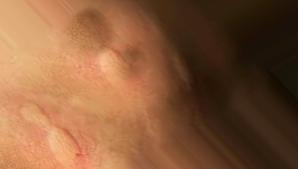Spider: (12, 96, 91, 169), (91, 41, 136, 89)
